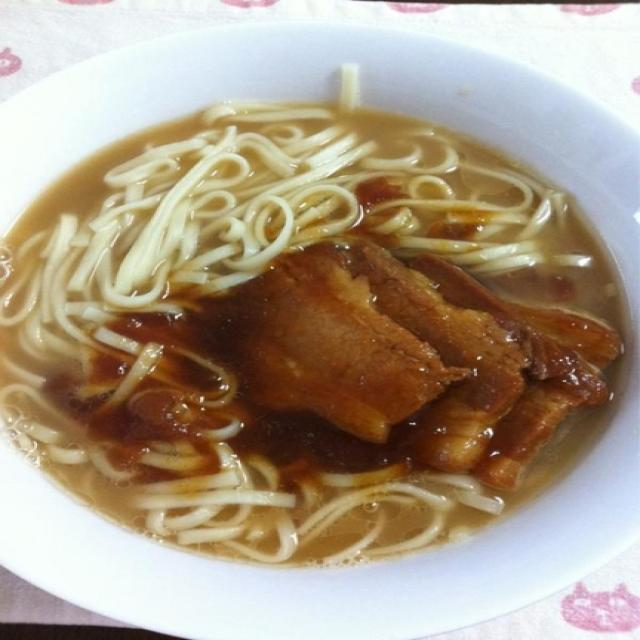鸡蛋料理: (205, 220, 401, 431)
